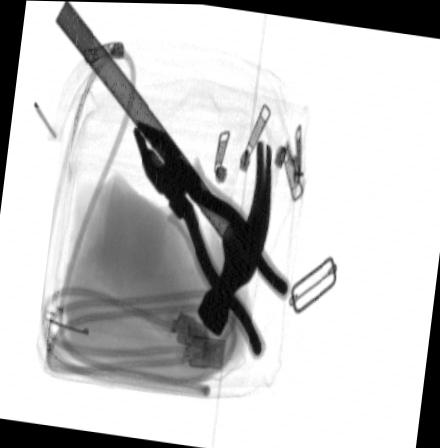Hammer: (53, 1, 270, 340)
Pliers: (130, 120, 290, 359)
